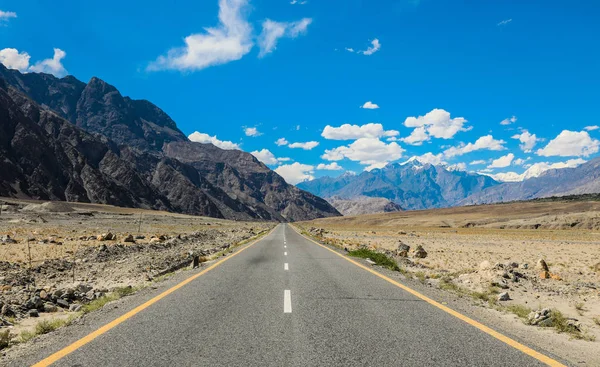straightRoad: (222, 214, 340, 365)
